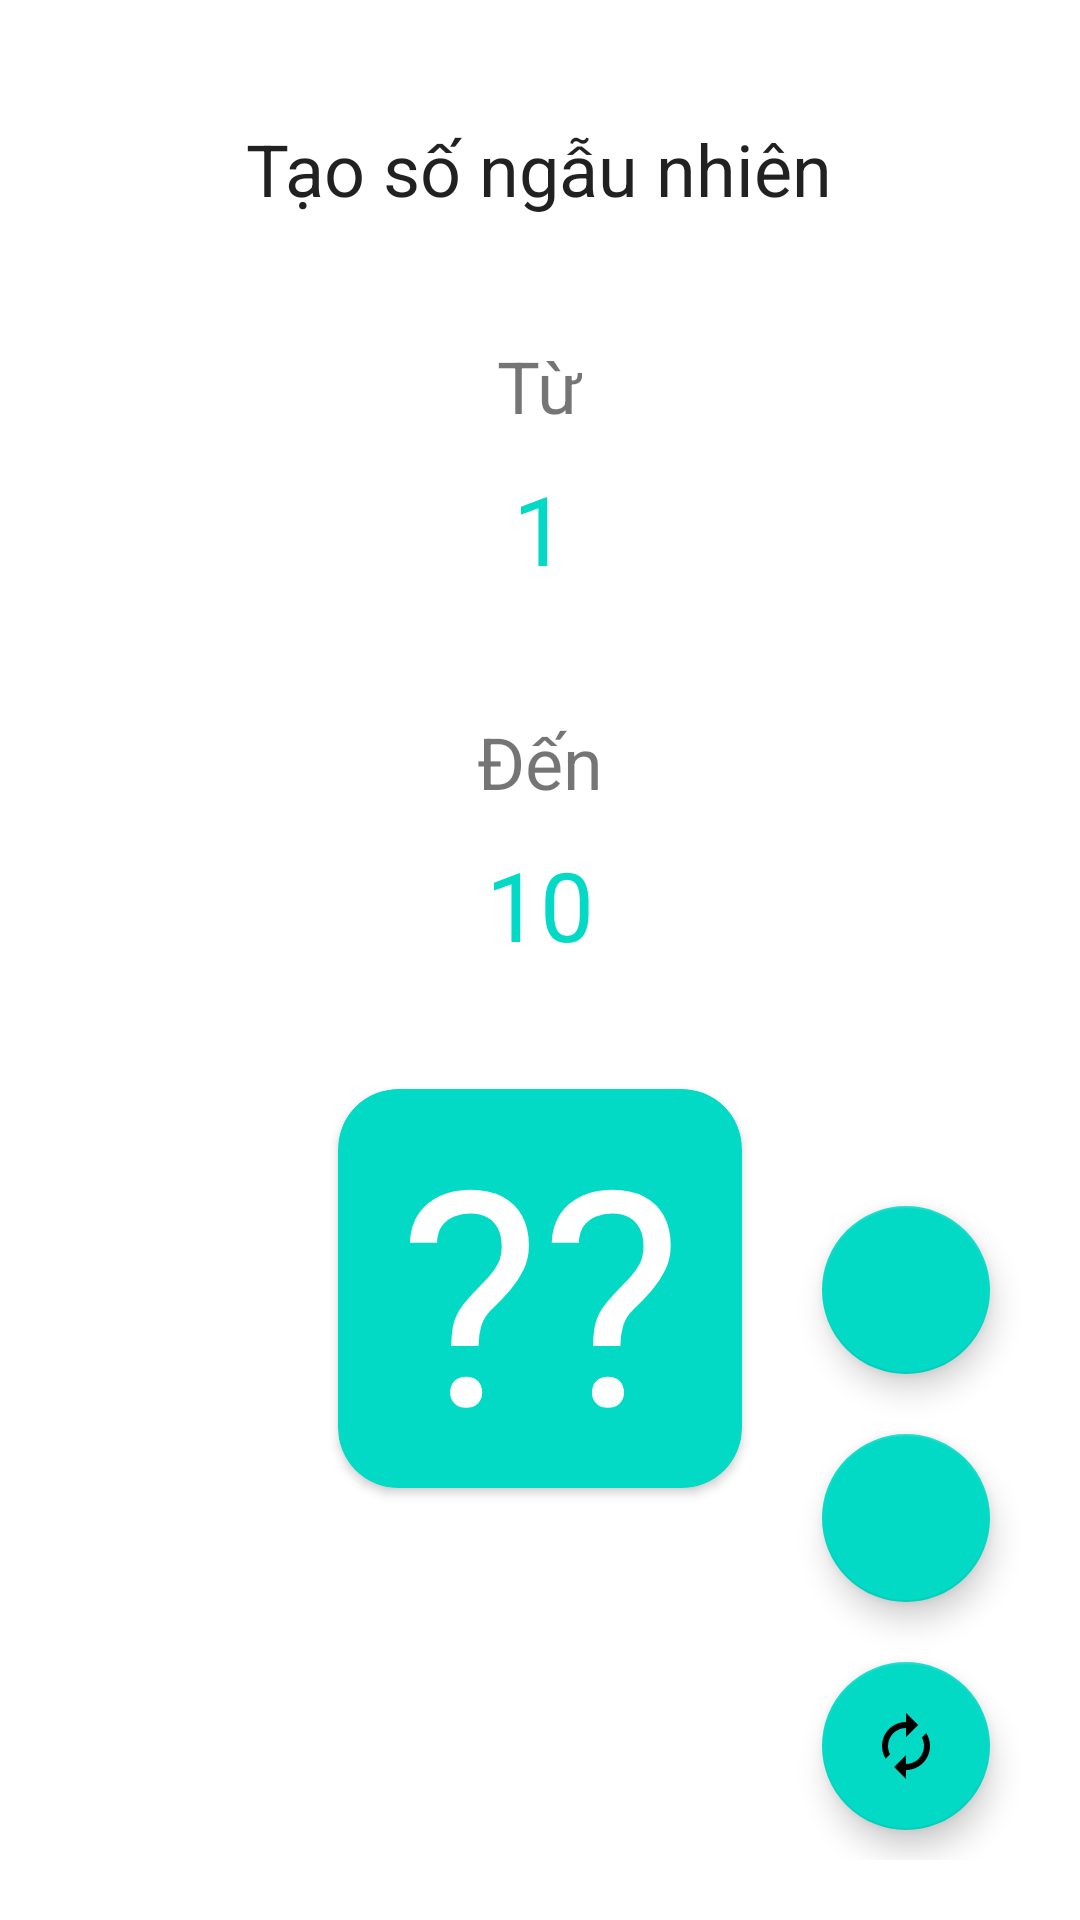

Icon bounding boxes for this 1080×1920 phone screenshot, format (x1, y1, x2, y2):
autorenew: (822, 1662, 990, 1830)
